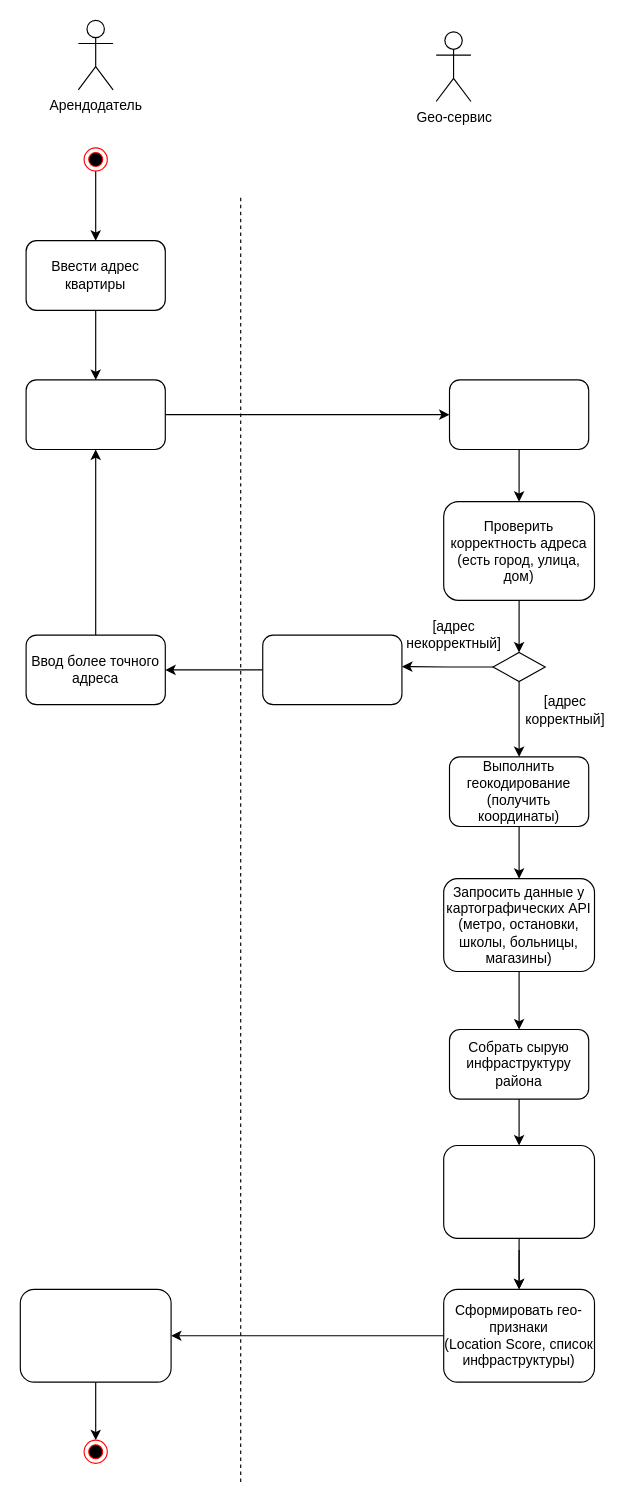
Image size: 625x1503. Some labels were removed from this diagram. Here are the shapes that lost their labels. From the top down, the centre of each, then its label:
(95,414): Отправить адрес на анализ
(518,414): Получить адрес
(332,669): Сформировать запрос уточнения адреса
(518,1191): Рассчитать гео-метрики (расстояния, плотность объектов, индексы района)
(95,1335): Получить гео-признаки и описание района
